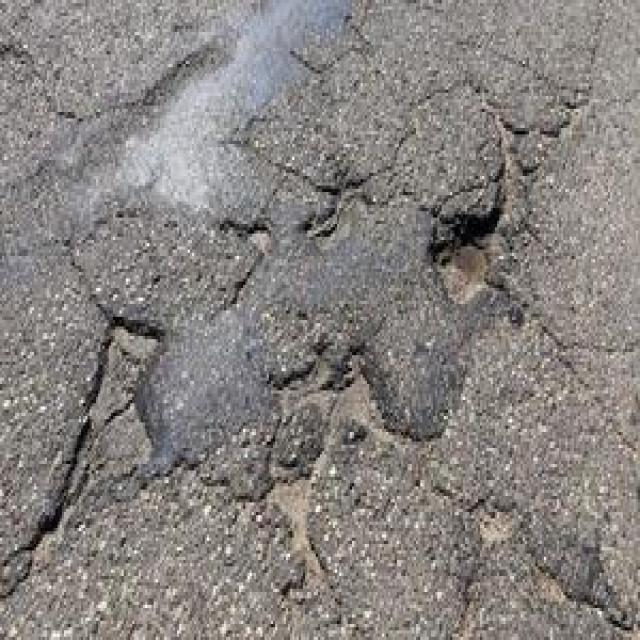road collapse: (29, 36, 618, 527)
